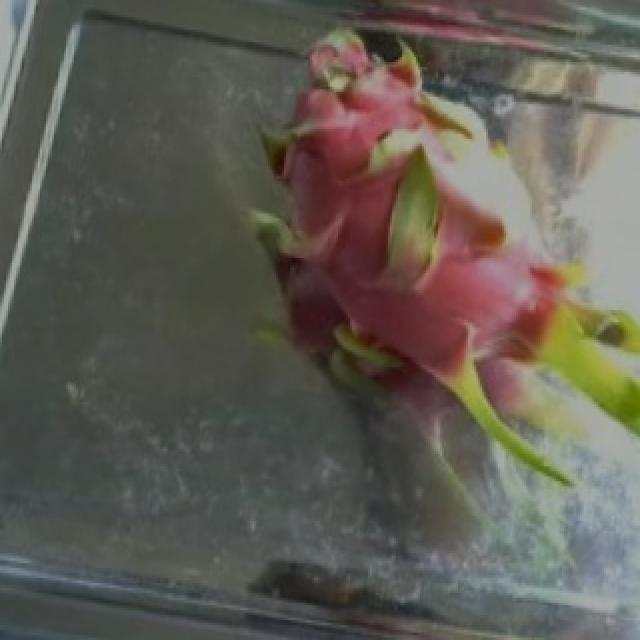fruit: (222, 77, 640, 536)
